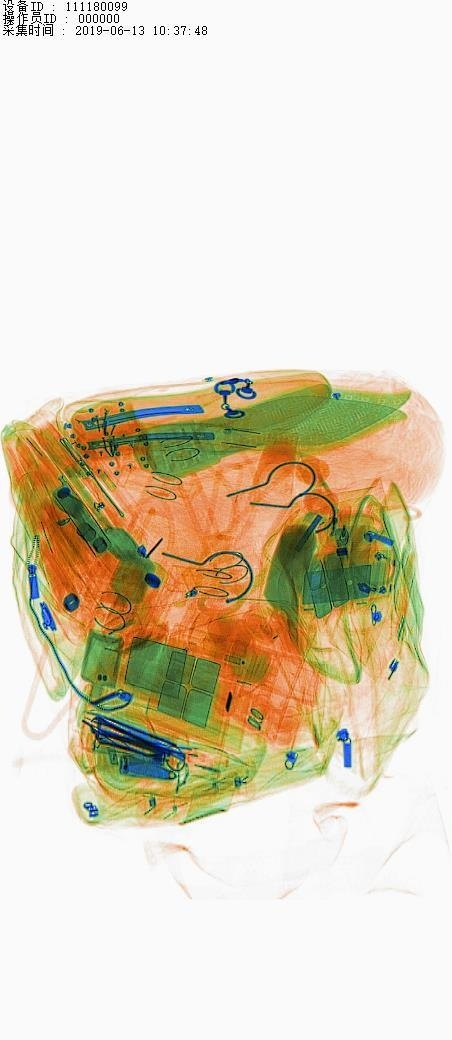NonmetallicFire: (320, 495, 356, 556)
